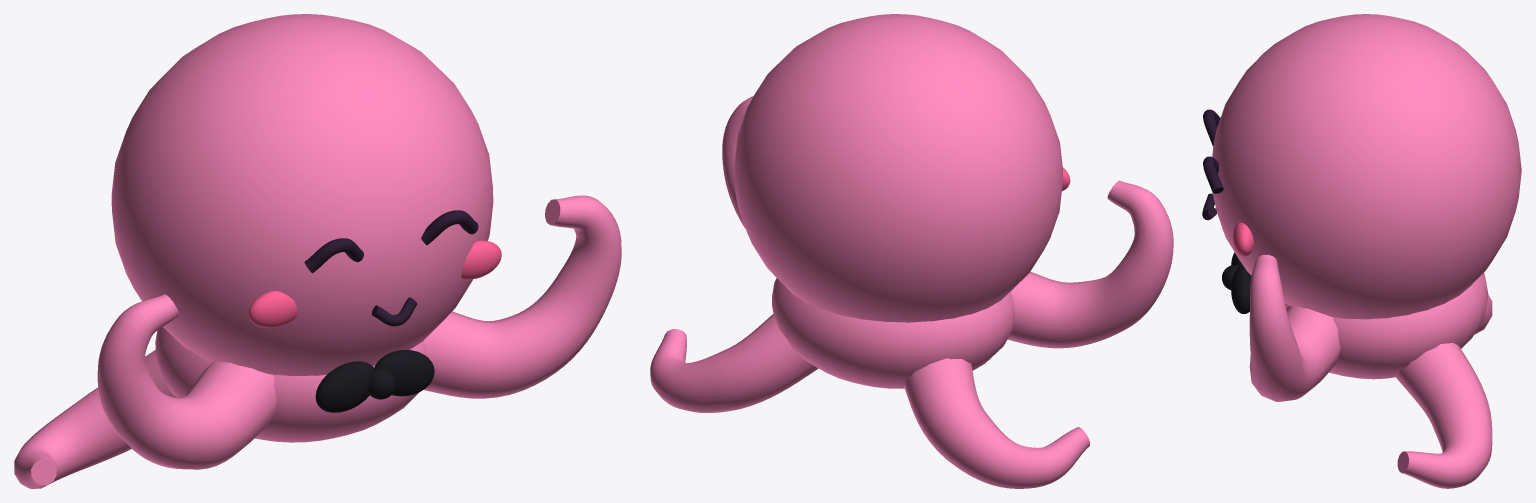
The model's file is Pulpi.fbx.
3 renders of one model, left to right at view 1: azimuth 30°, elevation 25°; view 2: azimuth 150°, elevation 25°; view 3: azimuth 270°, elevation 25°, orthographic. The views are drawn at different scales.
Parts seen in each view (by area): view 1: Pulpi Cabeza, Pulpi Tentáculo.002, Pulpi Tentáculo, Pulpi Base, Pulpi Tentáculo.001, Pulpi Moño, Pulpi Moño.001, Pulpi Cachete, Pulpi Cachete.001, Pulpi Ojo cerrado, Pulpi Ojo cerrado.001, Pulpi Nudo del moño (+1 smaller); view 2: Pulpi Cabeza, Pulpi Base, Pulpi Tentáculo, Pulpi Tentáculo.001, Pulpi Tentáculo.003, Pulpi Tentáculo.002; view 3: Pulpi Cabeza, Pulpi Tentáculo.003, Pulpi Tentáculo.002, Pulpi Base, Pulpi Moño.001, Pulpi Cachete.001, Pulpi Ojo cerrado.001, Pulpi Ojo cerrado.
Part boxes in pixels (x1,y1,x2,y2): Pulpi Cabeza: (111,14,493,376); Pulpi Tentáculo.002: (423,195,621,398); Pulpi Tentáculo: (97,294,276,469); Pulpi Base: (155,327,426,442); Pulpi Tentáculo.001: (14,350,176,488); Pulpi Moño: (315,361,375,412); Pulpi Moño.001: (374,350,434,396); Pulpi Cachete: (248,291,297,328); Pulpi Cachete.001: (461,240,501,279); Pulpi Ojo cerrado: (304,238,363,273); Pulpi Ojo cerrado.001: (421,210,478,244); Pulpi Nudo del moño: (368,368,395,399); Pulpi Cabeza: (734,14,1062,322); Pulpi Base: (772,278,1015,388); Pulpi Tentáculo: (1007,180,1173,348); Pulpi Tentáculo.001: (904,358,1089,488); Pulpi Tentáculo.003: (650,314,818,412); Pulpi Tentáculo.002: (722,96,753,228); Pulpi Cabeza: (1212,14,1521,319); Pulpi Tentáculo.003: (1395,343,1492,488); Pulpi Tentáculo.002: (1249,254,1340,401); Pulpi Base: (1285,272,1488,379); Pulpi Moño.001: (1231,265,1251,313); Pulpi Cachete.001: (1233,222,1253,256); Pulpi Ojo cerrado.001: (1203,156,1223,193); Pulpi Ojo cerrado: (1203,109,1220,145).
Bounding box in the file's own units: 1.36 × 1.11 × 0.863.
